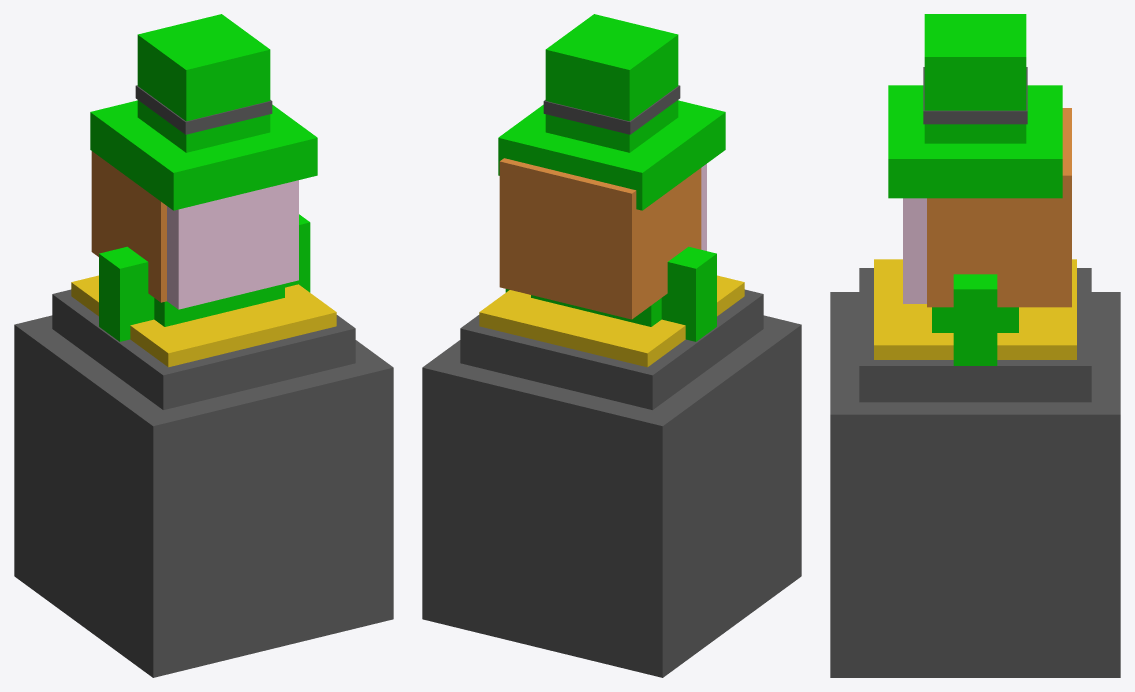
Rendered from leprechaun.fbx.
3 renders of one model, left to right at view 1: azimuth 30°, elevation 25°; view 2: azimuth 150°, elevation 25°; view 3: azimuth 270°, elevation 25°, orthographic. The views are drawn at different scales.
Visible parts, largest first — view 1: Cube.007; view 2: Cube.007; view 3: Cube.007.
Boxes of the visible parts, x1,y1,x2,y2 form: Cube.007: (14, 14, 393, 677); Cube.007: (422, 14, 801, 677); Cube.007: (830, 14, 1120, 677).
Size of the model in its own units: 400 by 883 by 400.
